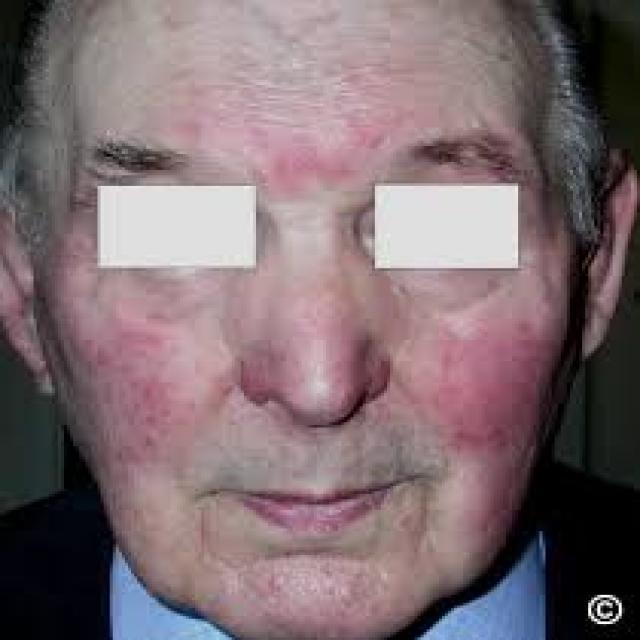Rosacea: (409, 312, 541, 533), (55, 318, 193, 470), (262, 118, 395, 198)
